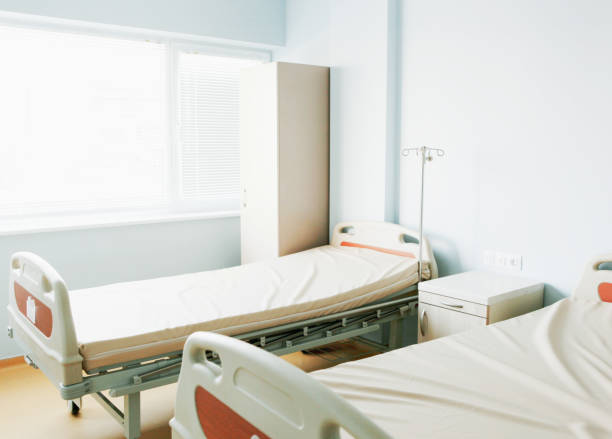bedside_table: (418, 268, 545, 343)
foot_board: (169, 331, 394, 439), (6, 251, 84, 386)
handle: (420, 310, 428, 338), (441, 300, 463, 310)
hospital_bed: (1, 219, 438, 439), (169, 254, 612, 439)
iv_pole: (401, 146, 445, 282)
